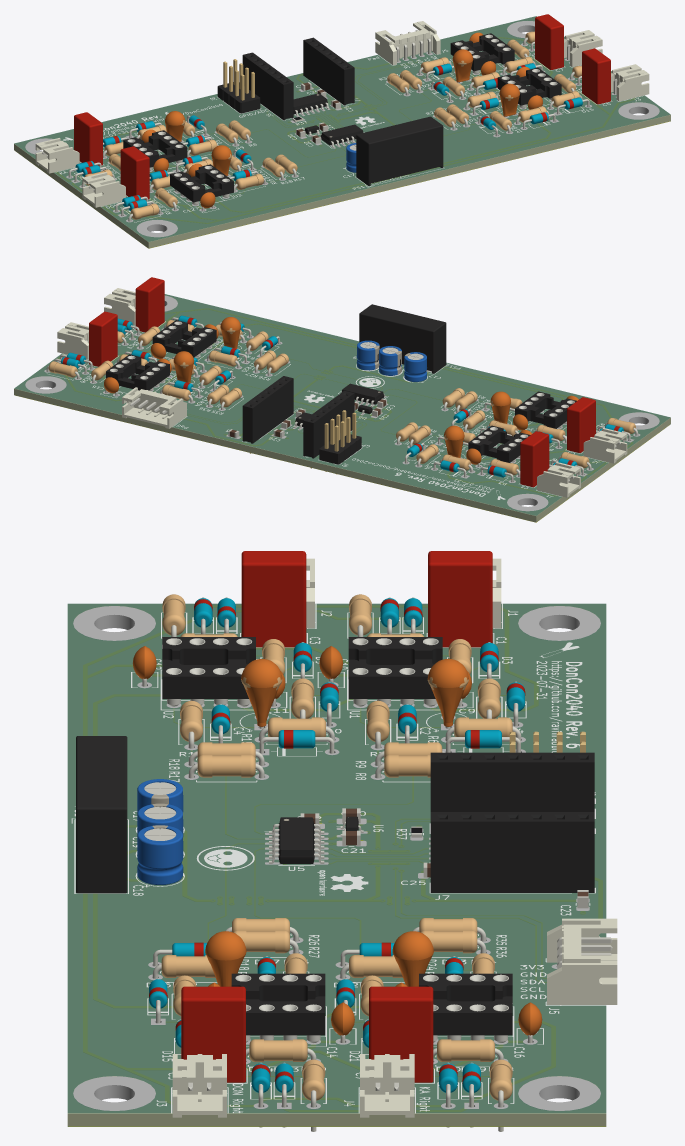
The model's file is board.glb.
3 renders of one model, top to bottom at view 1: azimuth 30°, elevation 25°; view 2: azimuth 150°, elevation 25°; view 3: azimuth 270°, elevation 25°, orthographic. The views are drawn at different scales.
Visible parts, largest first — view 1: board_soldermask, board_PCB, DIP_8_W762mm_Socket (×4), C_Rect_L70mm_W35mm_P500mm (×4), Converter_DCDC_XP_POWER_IAxxxxS_THT, JST_S2B_PH_K (×4), PinSocket_1x07_P2.54mm_Vertical (×2), board_pad, board_silkscreen, CP_Radial_Tantal_D45mm_P250mm (×4), JST_S5B_PH_K, PinHeader_2x04_P254mm_Vertical (+3 smaller); view 2: board_soldermask, board_PCB, DIP_8_W762mm_Socket (×4), C_Rect_L70mm_W35mm_P500mm (×4), JST_S2B_PH_K (×4), PinSocket_1x07_P2.54mm_Vertical (×2), Converter_DCDC_XP_POWER_IAxxxxS_THT, board_pad, board_silkscreen, CP_Radial_Tantal_D45mm_P250mm (×4), CP_Radial_D50mm_P200mm (×3), JST_S5B_PH_K (+3 smaller); view 3: board_soldermask, board_PCB, PinSocket_1x07_P2.54mm_Vertical (×2), DIP_8_W762mm_Socket (×4), C_Rect_L70mm_W35mm_P500mm (×4), R_Axial_DIN0207_L63mm_D25mm_P762mm_Horizontal (×21), board_pad, board_silkscreen, Converter_DCDC_XP_POWER_IAxxxxS_THT, board_copper, CP_Radial_Tantal_D45mm_P250mm (×4), JST_S2B_PH_K (×2) (+4 smaller).
Part boxes in pixels (box(x1,y1,x2,y2)): board_soldermask: box(14, 16, 670, 241); board_PCB: box(14, 17, 670, 248); DIP_8_W762mm_Socket (×4): box(123, 33, 561, 205); C_Rect_L70mm_W35mm_P500mm (×4): box(74, 14, 610, 199); Converter_DCDC_XP_POWER_IAxxxxS_THT: box(356, 116, 443, 185); JST_S2B_PH_K (×4): box(35, 30, 649, 207); PinSocket_1x07_P2.54mm_Vertical (×2): box(242, 37, 354, 120); board_pad: box(25, 21, 659, 237); board_silkscreen: box(55, 45, 644, 222); CP_Radial_Tantal_D45mm_P250mm (×4): box(165, 49, 519, 176); JST_S5B_PH_K: box(375, 21, 440, 65); PinHeader_2x04_P254mm_Vertical: box(217, 59, 260, 113); board_soldermask: box(14, 294, 670, 515); board_PCB: box(14, 295, 670, 522); DIP_8_W762mm_Socket (×4): box(106, 320, 576, 462); C_Rect_L70mm_W35mm_P500mm (×4): box(89, 277, 595, 487); JST_S2B_PH_K (×4): box(57, 288, 627, 497); PinSocket_1x07_P2.54mm_Vertical (×2): box(242, 376, 354, 468); Converter_DCDC_XP_POWER_IAxxxxS_THT: box(359, 304, 446, 373); board_pad: box(25, 295, 659, 511); board_silkscreen: box(47, 321, 632, 499); CP_Radial_Tantal_D45mm_P250mm (×4): box(173, 317, 510, 457); CP_Radial_D50mm_P200mm (×3): box(356, 340, 427, 381); JST_S5B_PH_K: box(122, 387, 186, 428); board_soldermask: box(67, 603, 606, 1113); board_PCB: box(67, 604, 606, 1126); PinSocket_1x07_P2.54mm_Vertical (×2): box(430, 752, 594, 892); DIP_8_W762mm_Socket (×4): box(162, 637, 512, 1043); C_Rect_L70mm_W35mm_P500mm (×4): box(181, 551, 492, 1082); R_Axial_DIN0207_L63mm_D25mm_P762mm_Horizontal (×21): box(152, 594, 521, 1131); board_pad: box(73, 606, 600, 1110); board_silkscreen: box(71, 603, 606, 1113); Converter_DCDC_XP_POWER_IAxxxxS_THT: box(76, 736, 127, 893); board_copper: box(68, 606, 605, 1126); CP_Radial_Tantal_D45mm_P250mm (×4): box(205, 658, 468, 986); JST_S2B_PH_K (×2): box(172, 1054, 414, 1117).
Size of the model in its own units: 0.1332 by 0.0139 by 0.0596.
